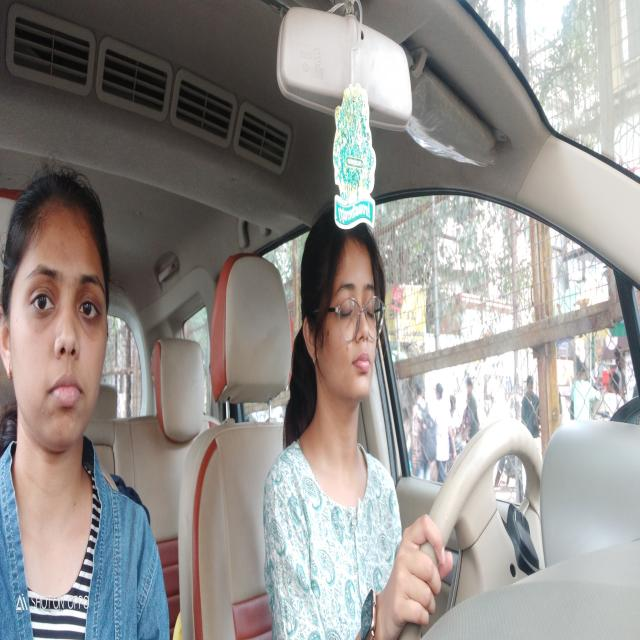drowsy: (301, 200, 388, 457)
person: (3, 164, 112, 470)
